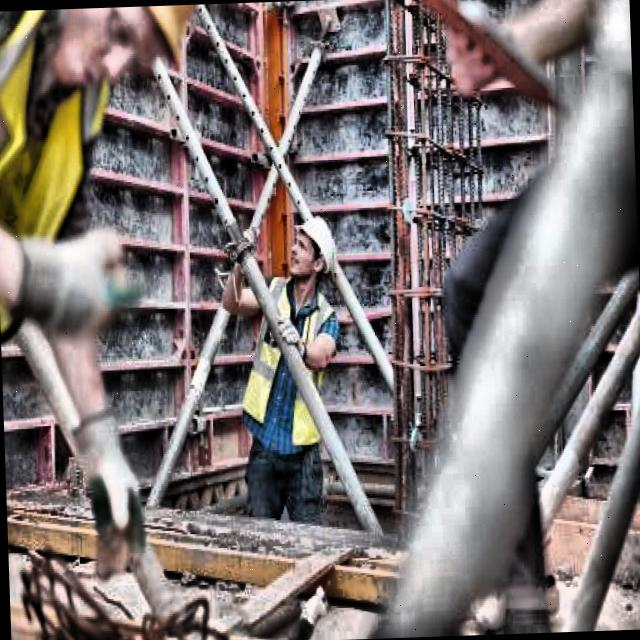helmet: (42, 5, 208, 94), (286, 208, 338, 287)
